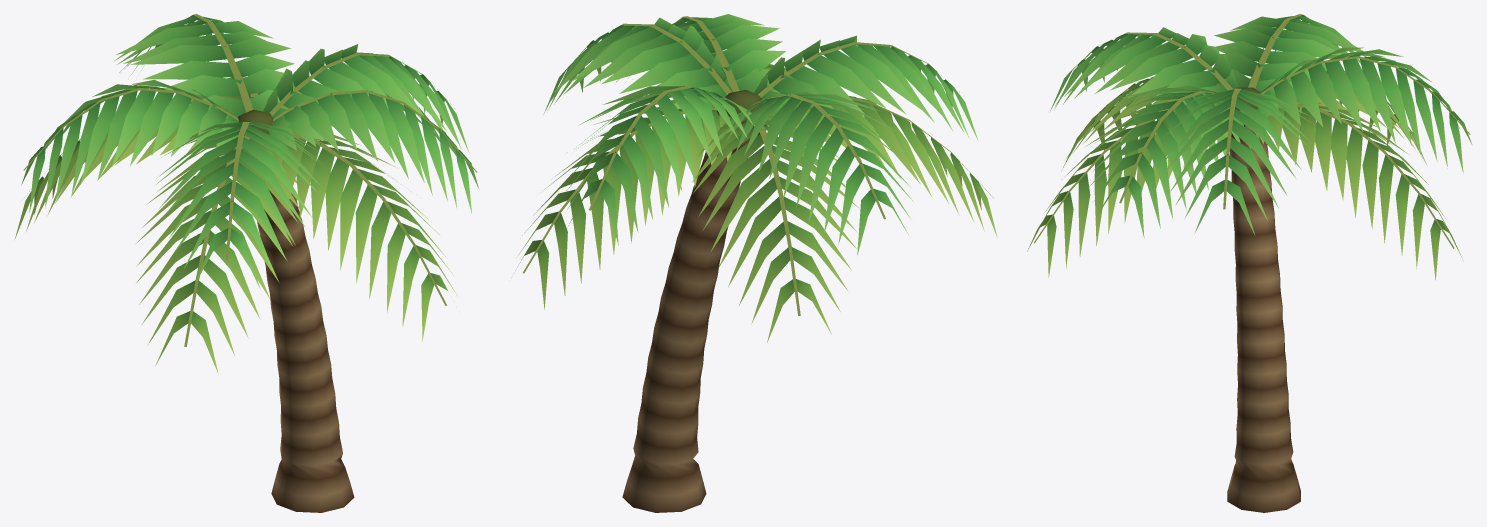
File: palm_ac_b_lod1.glb
The picture shows the model from 3 angles, left to right: view 1: azimuth 30°, elevation 25°; view 2: azimuth 150°, elevation 25°; view 3: azimuth 270°, elevation 25°; orthographic projection. The views are drawn at different scales.
Visible parts, largest first — view 1: palm_ac_b.001; view 2: palm_ac_b.001; view 3: palm_ac_b.001.
Part boxes in pixels (x1,y1,x2,y2): palm_ac_b.001: [14, 14, 479, 512]; palm_ac_b.001: [515, 14, 997, 512]; palm_ac_b.001: [1027, 14, 1472, 512].
Size of the model in its own units: 3.45 by 3.8 by 3.7.
